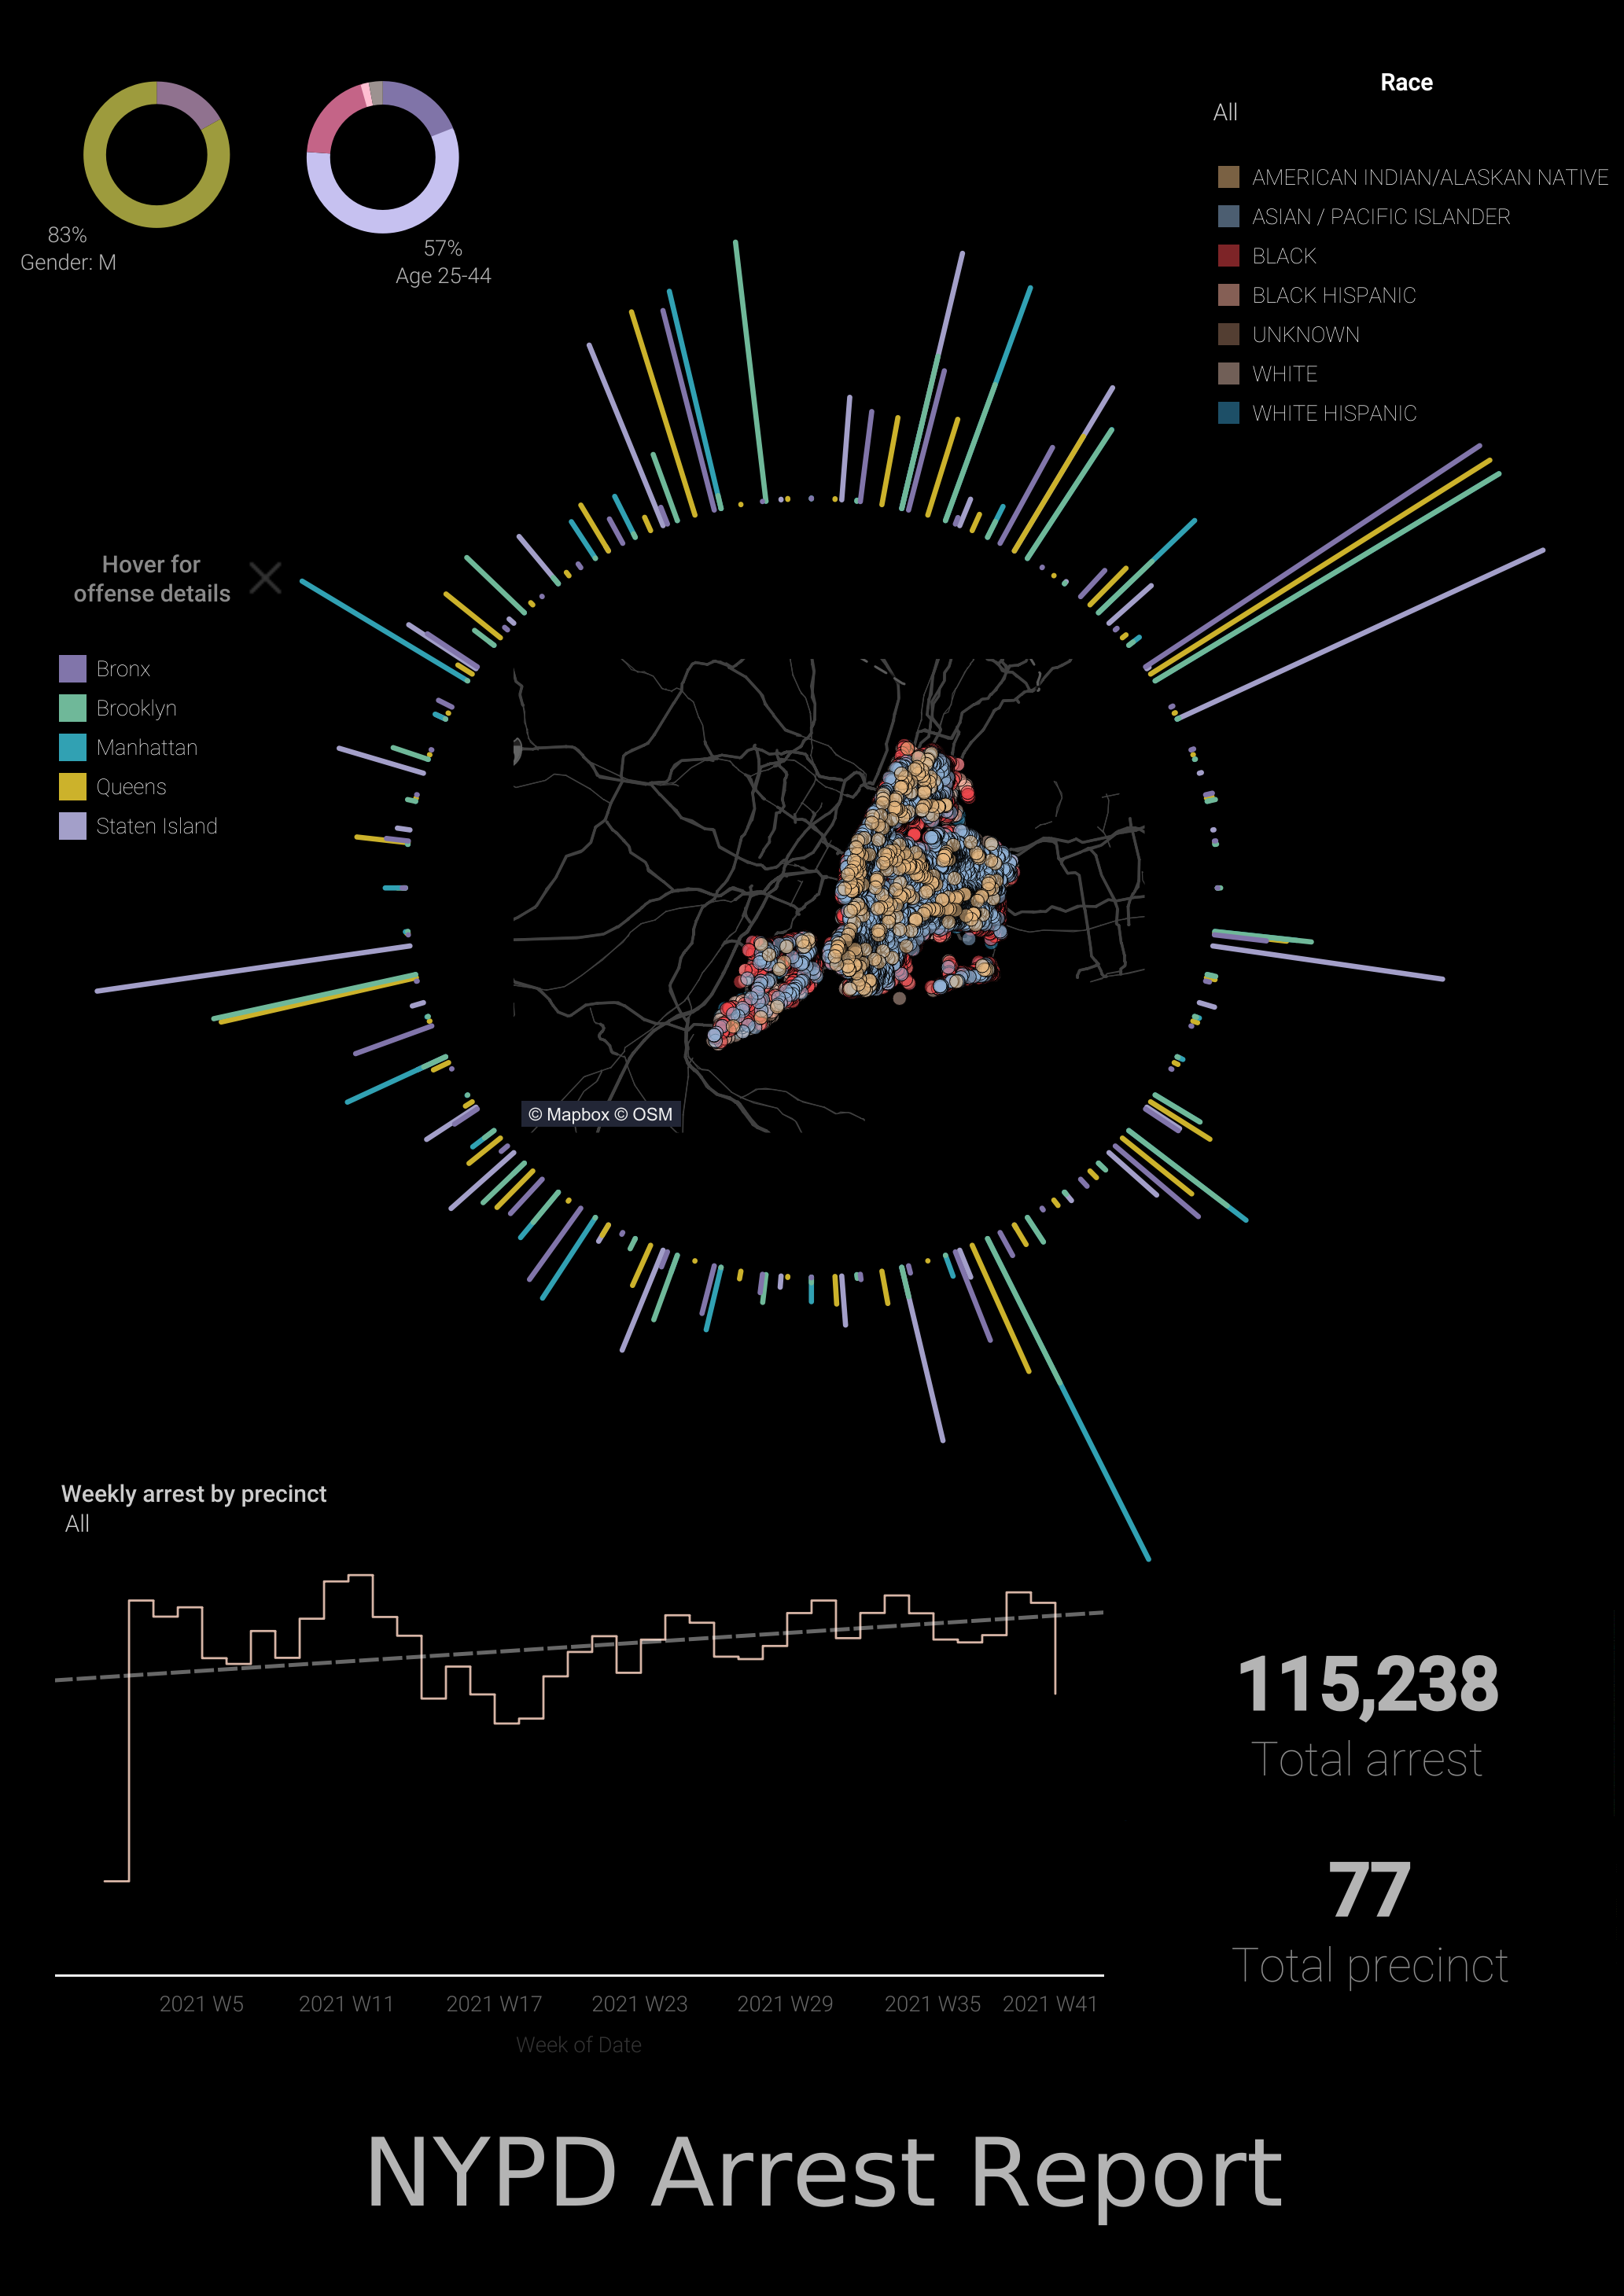

This screenshot's page, from the dashboard's own definition file:
{"tool":"tableau","page":{"name":"NYPD","canvas":[827,1169],"ordinal":0},"visuals":[{"type":"worksheet","title":"Gender ratio","mark":"Pie","rows":["Calculation_1533194235584565256","Calculation_1533194235584565256"],"box":[5,9,149,139]},{"type":"worksheet","title":"Age Group","mark":"Pie","rows":["Calculation_1533194235584565256","Calculation_1533194235584565256"],"box":[117,12,155,136]},{"type":"filter","title":"Arrest by race","param":"[federated.01m3g6o0q8zxi914oihov0d5fl6j].[none:race:nk]","box":[615,33,201,60]},{"type":"legend","title":"Arrest by race","param":"[federated.01m3g6o0q8zxi914oihov0d5fl6j].[none:race:nk]","box":[615,80,208,168]},{"type":"text","box":[8,279,139,30]},{"type":"dashboard-object","box":[123,282,24,24]},{"type":"legend","title":"Offense by boro","param":"[federated.01m3g6o0q8zxi914oihov0d5fl6j (copy)].[none:boro:nk]","box":[27,330,129,105]},{"type":"worksheet","title":"Arrest by race","mark":"Multipolygon","rows":["latitude"],"cols":["longitude"],"box":[261,335,321,241]},{"type":"filter","title":"Weekly Arrest by Precinct","param":"[federated.01m3g6o0q8zxi914oihov0d5fl6j].[none:precinct:nk]","box":[31,751,218,37]},{"type":"worksheet","title":"Weekly Arrest by Precinct","mark":"Line","cols":["date"],"box":[28,790,533,264]},{"type":"text","box":[23,1042,791,126]}]}

Visuals, with their boxes in screenshot pixels (x1, y1, x2, y2), scaled from the page's 827x1169 canvas onto the 1624x2296 screenshot:
"Gender ratio" worksheet (Pie marks): bbox=(9, 17, 303, 291)
"Age Group" worksheet (Pie marks): bbox=(230, 24, 534, 291)
"Arrest by race" filter: bbox=(1208, 64, 1603, 182)
"Arrest by race" legend: bbox=(1208, 157, 1616, 487)
text: bbox=(16, 548, 289, 607)
dashboard-object: bbox=(241, 554, 289, 601)
"Offense by boro" legend: bbox=(53, 648, 307, 855)
"Arrest by race" worksheet (Multipolygon marks): bbox=(513, 658, 1143, 1131)
"Weekly Arrest by Precinct" filter: bbox=(61, 1475, 489, 1547)
"Weekly Arrest by Precinct" worksheet (Line marks): bbox=(55, 1551, 1102, 2070)
text: bbox=(45, 2047, 1599, 2294)
